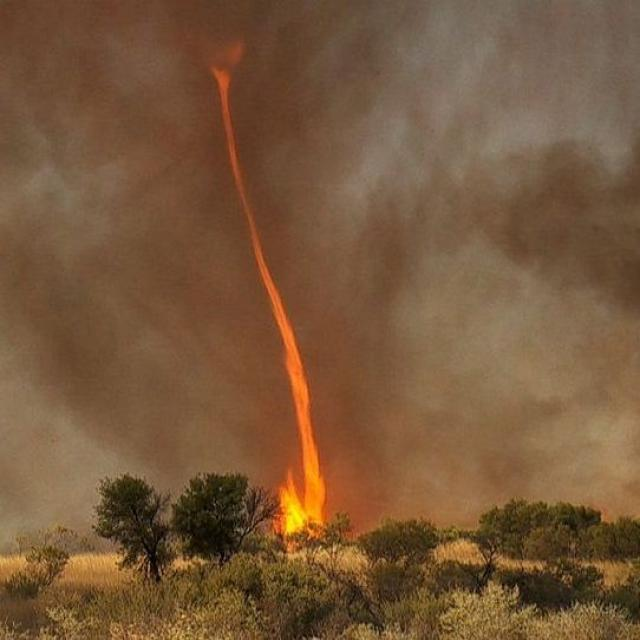Fire: (170, 33, 347, 548)
Smoke: (5, 0, 640, 514)
